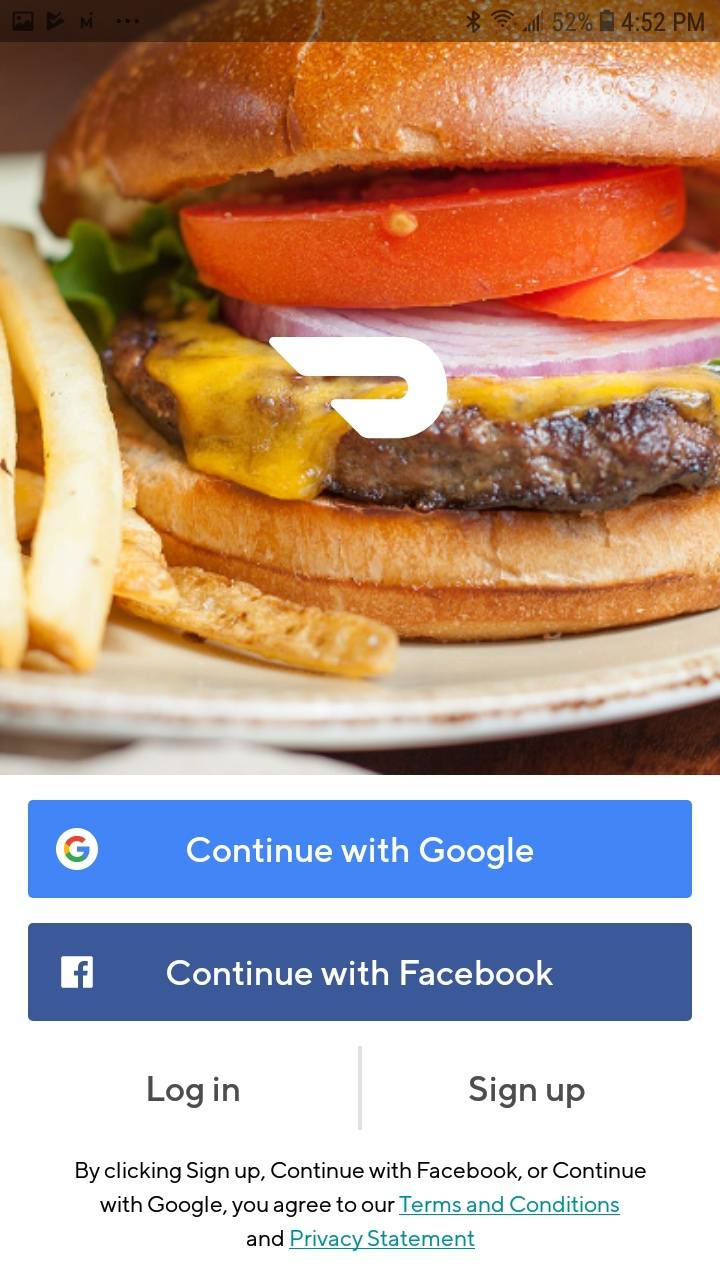Image: (1, 43, 719, 776), (268, 336, 448, 439)
Text: (76, 1161, 647, 1252), (469, 1075, 586, 1109), (148, 1075, 240, 1109)
TextButton: (28, 800, 692, 899), (28, 923, 692, 1022)
UpperTaskBar: (1, 1, 720, 43)
